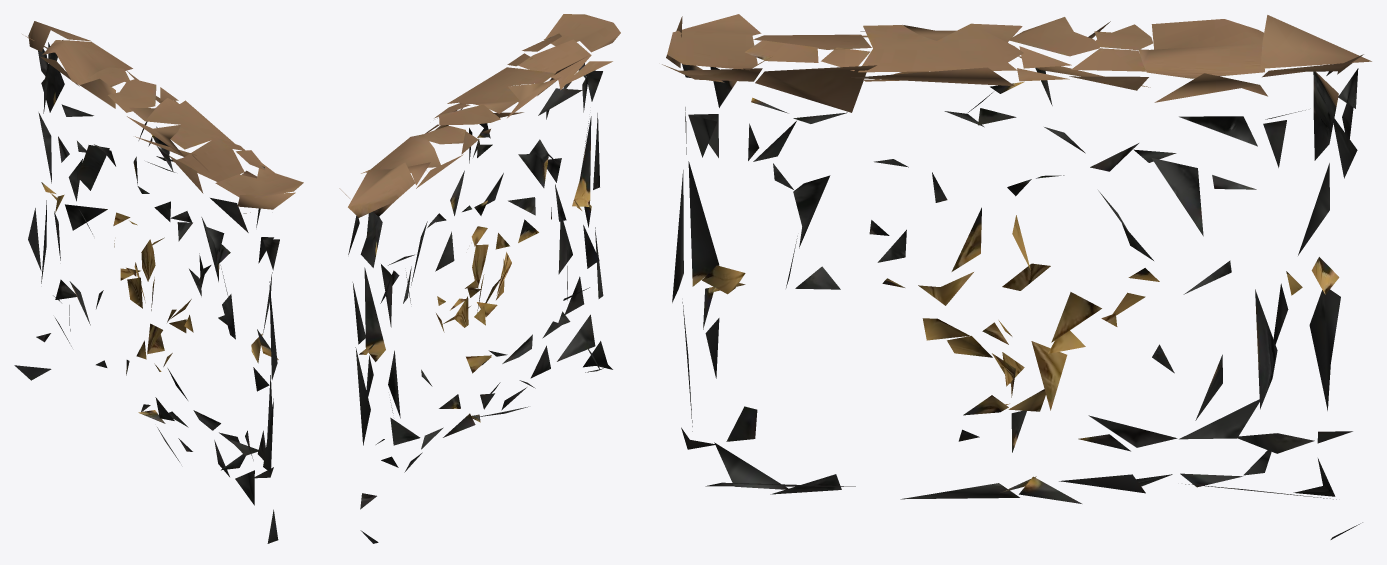
The model's file is hf_railing_lo.glb.
3 views of the same model, side by side, from view 1: azimuth 30°, elevation 25°; view 2: azimuth 150°, elevation 25°; view 3: azimuth 270°, elevation 25° (orthographic). The views are drawn at different scales.
Parts seen in each view (by area): view 1: tripo_node_c08ea310-aa07-43ee-a7c8-722e95ecd5d7; view 2: tripo_node_c08ea310-aa07-43ee-a7c8-722e95ecd5d7; view 3: tripo_node_c08ea310-aa07-43ee-a7c8-722e95ecd5d7.
Part boxes in pixels (left/top/right/bottom): tripo_node_c08ea310-aa07-43ee-a7c8-722e95ecd5d7: left=14, top=21, right=303, bottom=543; tripo_node_c08ea310-aa07-43ee-a7c8-722e95ecd5d7: left=339, top=14, right=620, bottom=543; tripo_node_c08ea310-aa07-43ee-a7c8-722e95ecd5d7: left=662, top=14, right=1371, bottom=539.
Bounding box in the file's own units: 0.1762 × 0.7852 × 0.9784.
1 material, 1 textured.
